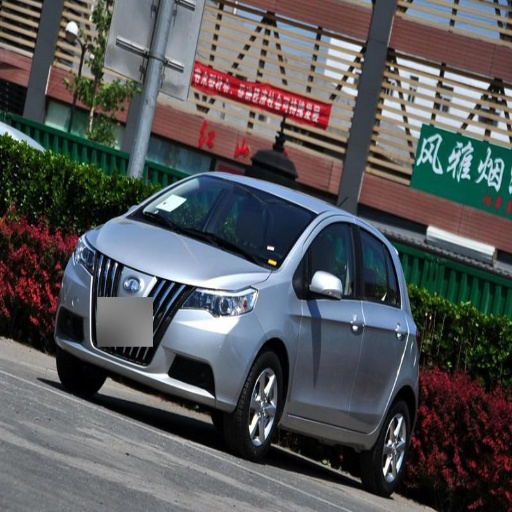front_bumper: (56, 252, 260, 409)
front_glass: (128, 176, 312, 270)
front_left_door: (292, 216, 364, 428)
